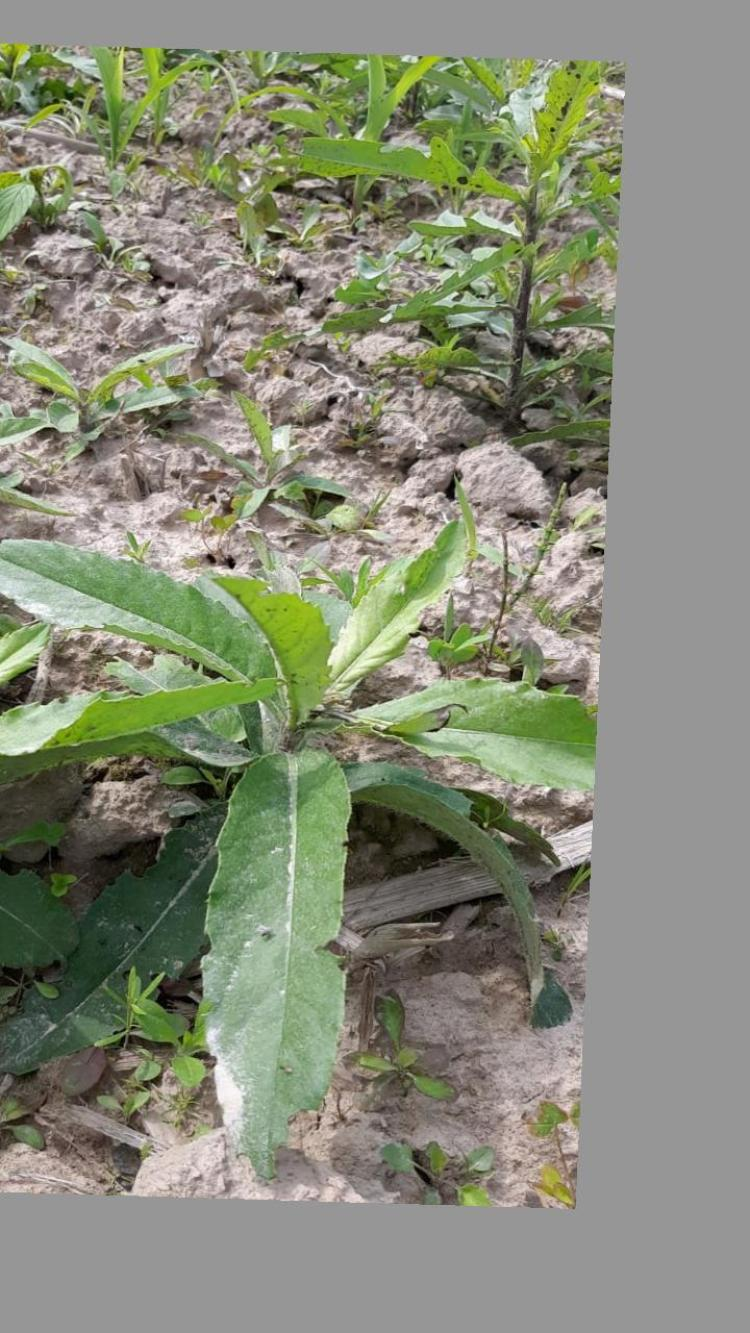osot: (2, 533, 608, 1171)
